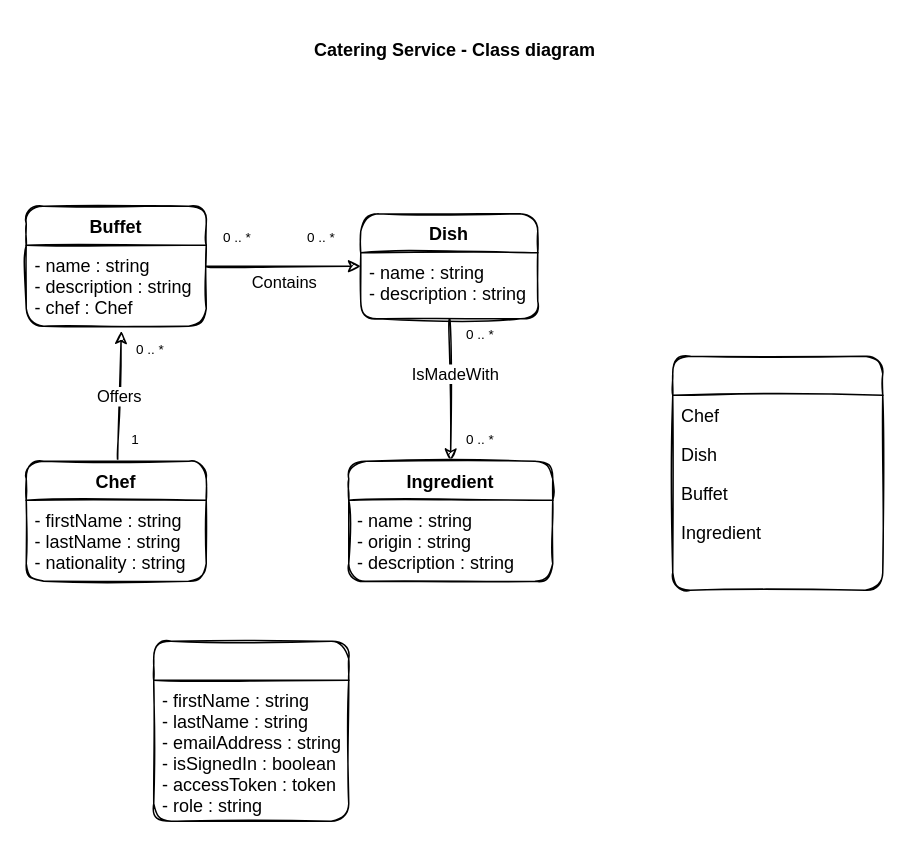
Image size: 909x851. Some labels were removed from this diagram. Here are the shapes that lost their labels. From the top down, the box of each, then its label:
(671, 355, 883, 590): Data type classes
(152, 640, 349, 821): User
